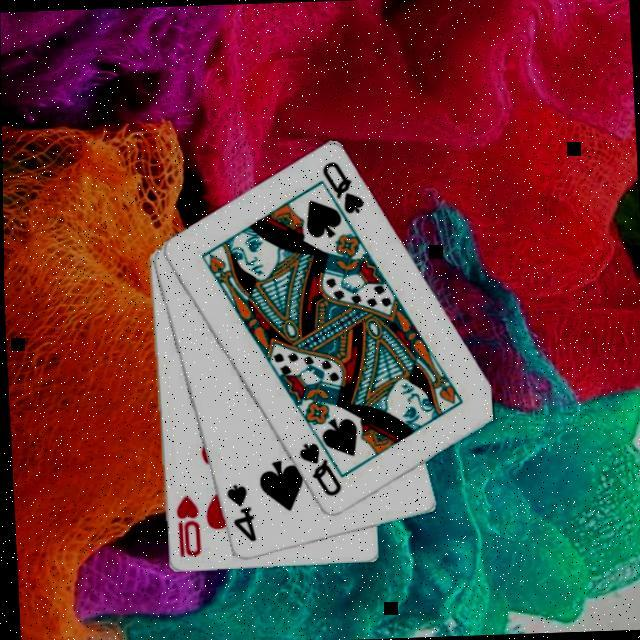10H: (171, 493, 203, 560)
4S: (222, 481, 258, 546)
QS: (295, 439, 344, 502), (319, 157, 368, 219)
